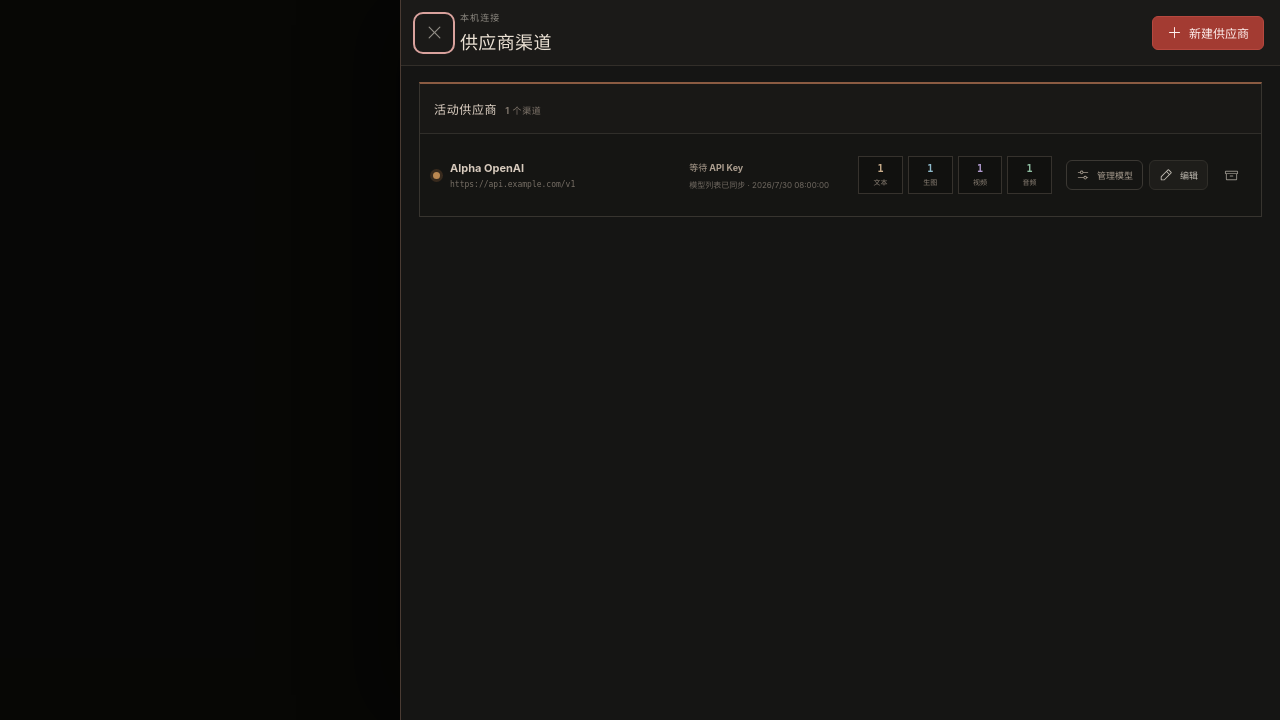
Test: 供应商渠道抽屉 › 模型弹窗是嵌套焦点层，Escape 只关闭模型弹窗
The image size is (1280, 720).
Check: the text "Alpha OpenAI" is shown, box [450,161,524,175]
Click the button "管理模型" at (1104, 175), box [1066,160,1143,190]
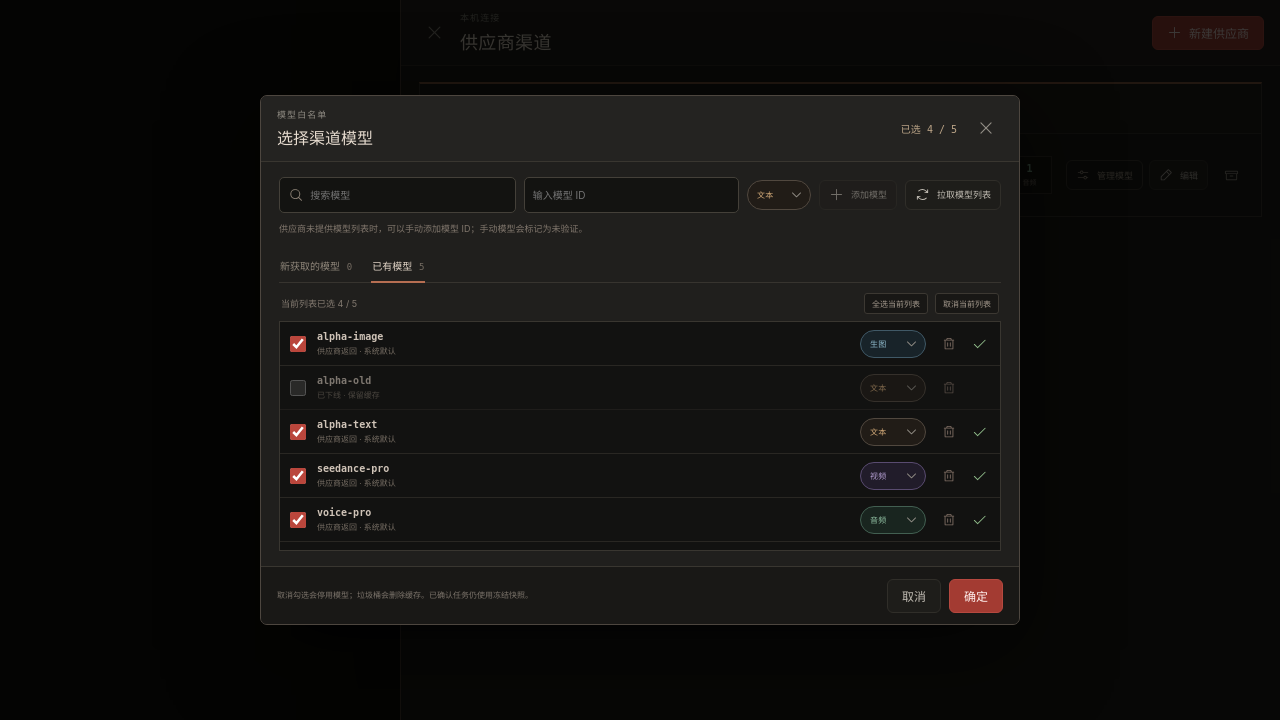
Press Escape
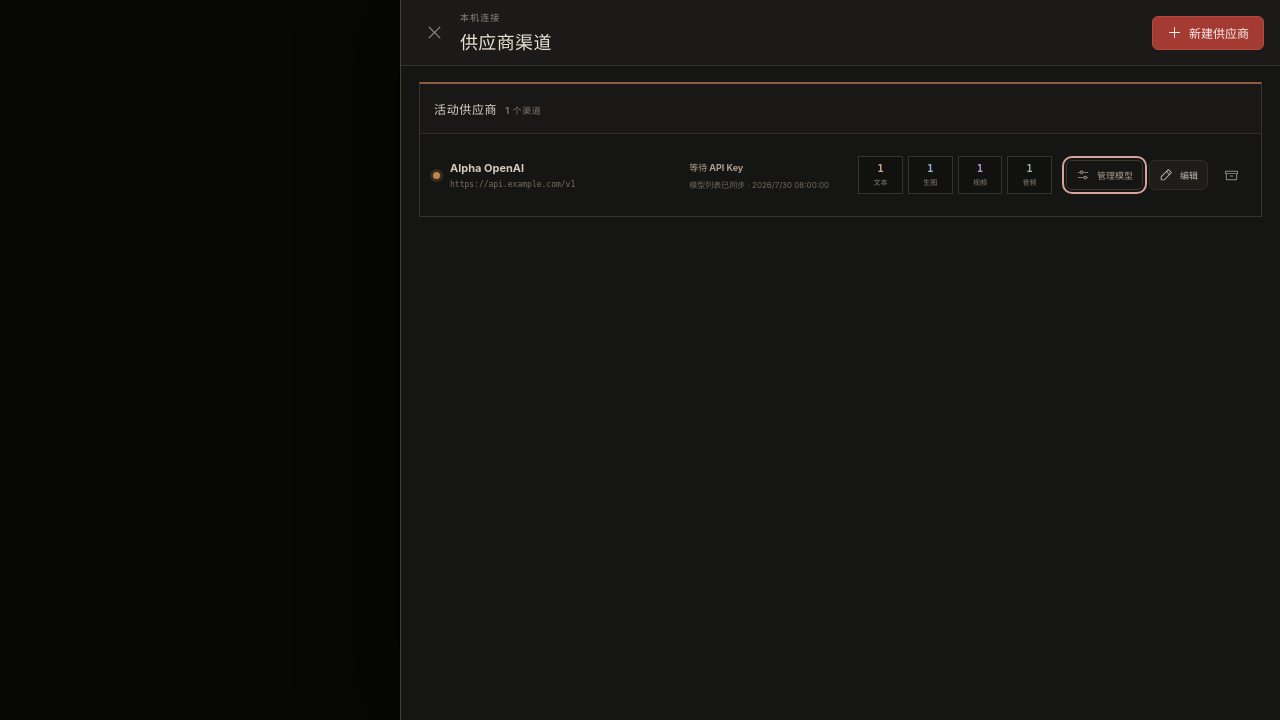
Check: the heading "选择渠道模型" is gone
